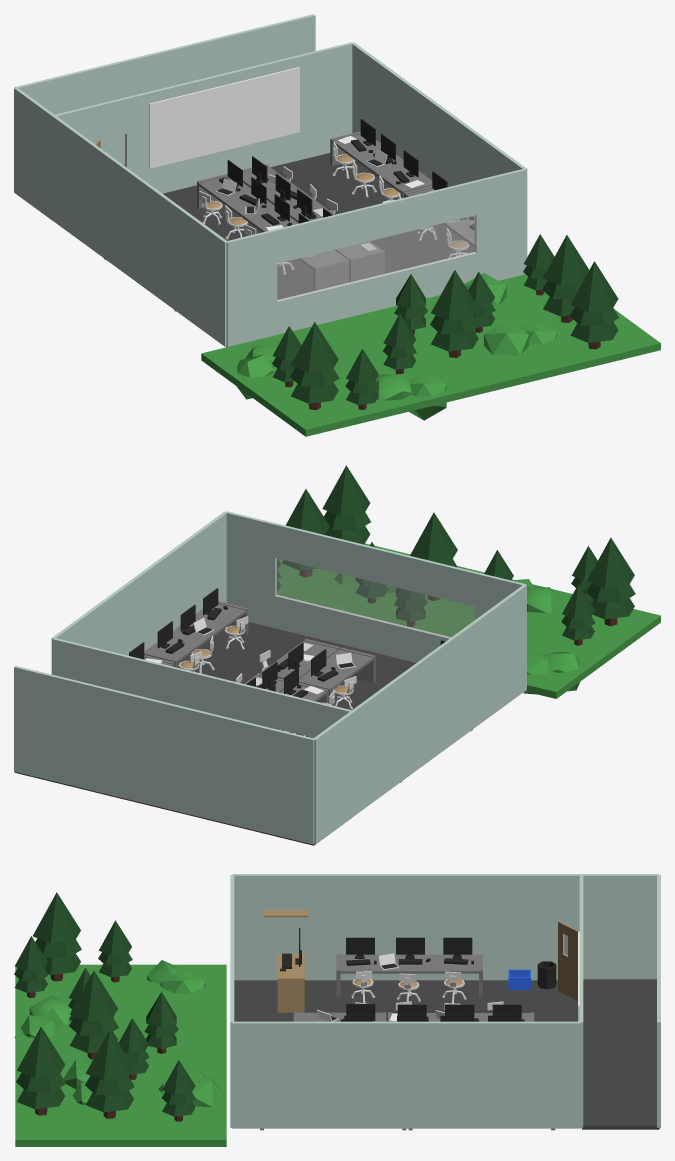
Rendered from BEFOREclassroom.dae.
3 views of the same model, one above another, from view 1: azimuth 30°, elevation 25°; view 2: azimuth 150°, elevation 25°; view 3: azimuth 270°, elevation 25° (orthographic).
Parts seen in each view (by area): view 1: southWall, westWall, grass, northWall, hallwayWall, eastWall, whiteboard, floor, window, deskSurface (×3), tree.5, tree.3 (+13 smaller); view 2: hallwayWall, westWall, southWall, grass, northWall, eastWall, window, floor, deskSurface (×3), tree.4, tree.5, tree.3 (+6 smaller); view 3: eastWall, westWall, grass, hallway, floor, tree.5, tree.6, tree.4, tree.3, deskSurface (×2), Cube (×3), podium (+17 smaller).
Boxes of the visible parts, left/top/right/bottom form: southWall: left=226, top=168, right=526, bottom=346; westWall: left=14, top=88, right=226, bottom=346; grass: left=201, top=274, right=660, bottom=436; northWall: left=53, top=42, right=353, bottom=193; hallwayWall: left=14, top=14, right=315, bottom=164; eastWall: left=352, top=42, right=527, bottom=265; whiteboard: left=149, top=67, right=299, bottom=168; floor: left=163, top=153, right=474, bottom=347; window: left=277, top=215, right=476, bottom=301; deskSurface (×3): left=199, top=134, right=432, bottom=232; tree.5: left=570, top=261, right=619, bottom=349; tree.3: left=430, top=270, right=479, bottom=357; hallwayWall: left=14, top=666, right=314, bottom=844; westWall: left=313, top=584, right=526, bottom=844; southWall: left=225, top=511, right=526, bottom=662; grass: left=277, top=543, right=660, bottom=698; northWall: left=52, top=637, right=352, bottom=738; eastWall: left=51, top=511, right=226, bottom=674; window: left=275, top=558, right=474, bottom=638; floor: left=177, top=622, right=415, bottom=736; deskSurface (×3): left=144, top=603, right=374, bottom=690; tree.4: left=586, top=537, right=635, bottom=626; tree.5: left=322, top=465, right=370, bottom=544; tree.3: left=410, top=512, right=457, bottom=600; eastWall: left=232, top=1021, right=581, bottom=1128; westWall: left=232, top=874, right=658, bottom=980; grass: left=15, top=964, right=226, bottom=1146; hallway: left=582, top=979, right=659, bottom=1129; floor: left=234, top=980, right=577, bottom=1021; tree.5: left=16, top=1026, right=65, bottom=1115; tree.6: left=85, top=1030, right=134, bottom=1118; tree.4: left=33, top=892, right=81, bottom=981; tree.3: left=69, top=971, right=118, bottom=1059; deskSurface (×2): left=297, top=954, right=480, bottom=1021; Cube (×3): left=346, top=937, right=472, bottom=954; podium: left=277, top=954, right=304, bottom=1012.
Size of the model in its own units: 10694 by 3714 by 16681.
